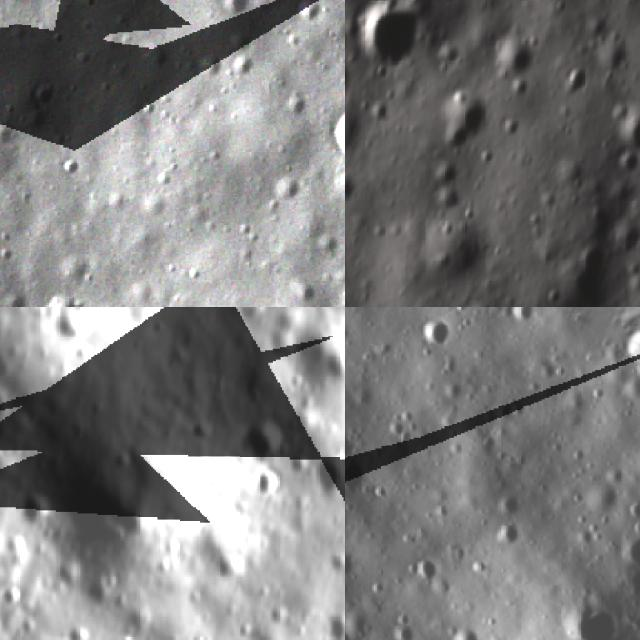crater: (539, 576, 640, 640), (354, 0, 430, 78), (557, 235, 632, 307), (442, 82, 498, 154), (235, 412, 298, 467), (396, 542, 449, 598), (410, 307, 464, 356), (345, 445, 383, 505), (606, 510, 640, 576), (309, 445, 345, 507), (9, 486, 57, 532), (612, 100, 640, 168), (494, 480, 538, 522), (554, 60, 597, 102), (497, 517, 538, 559), (210, 542, 250, 585), (322, 100, 345, 166), (496, 42, 536, 79), (248, 461, 284, 500), (441, 616, 492, 640), (345, 538, 367, 589), (314, 604, 345, 640), (501, 307, 543, 333), (289, 278, 321, 307), (38, 295, 89, 307)
